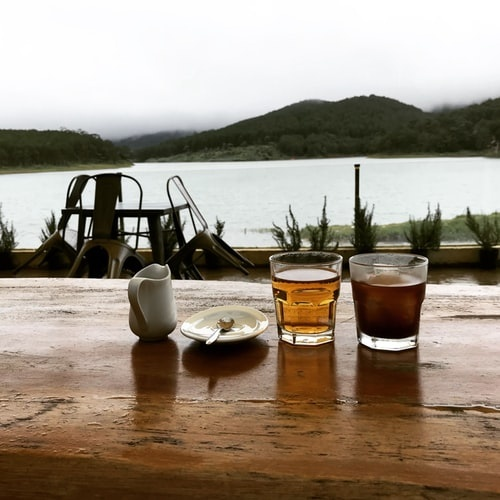whiskey: (350, 254, 426, 354), (271, 251, 347, 351)
